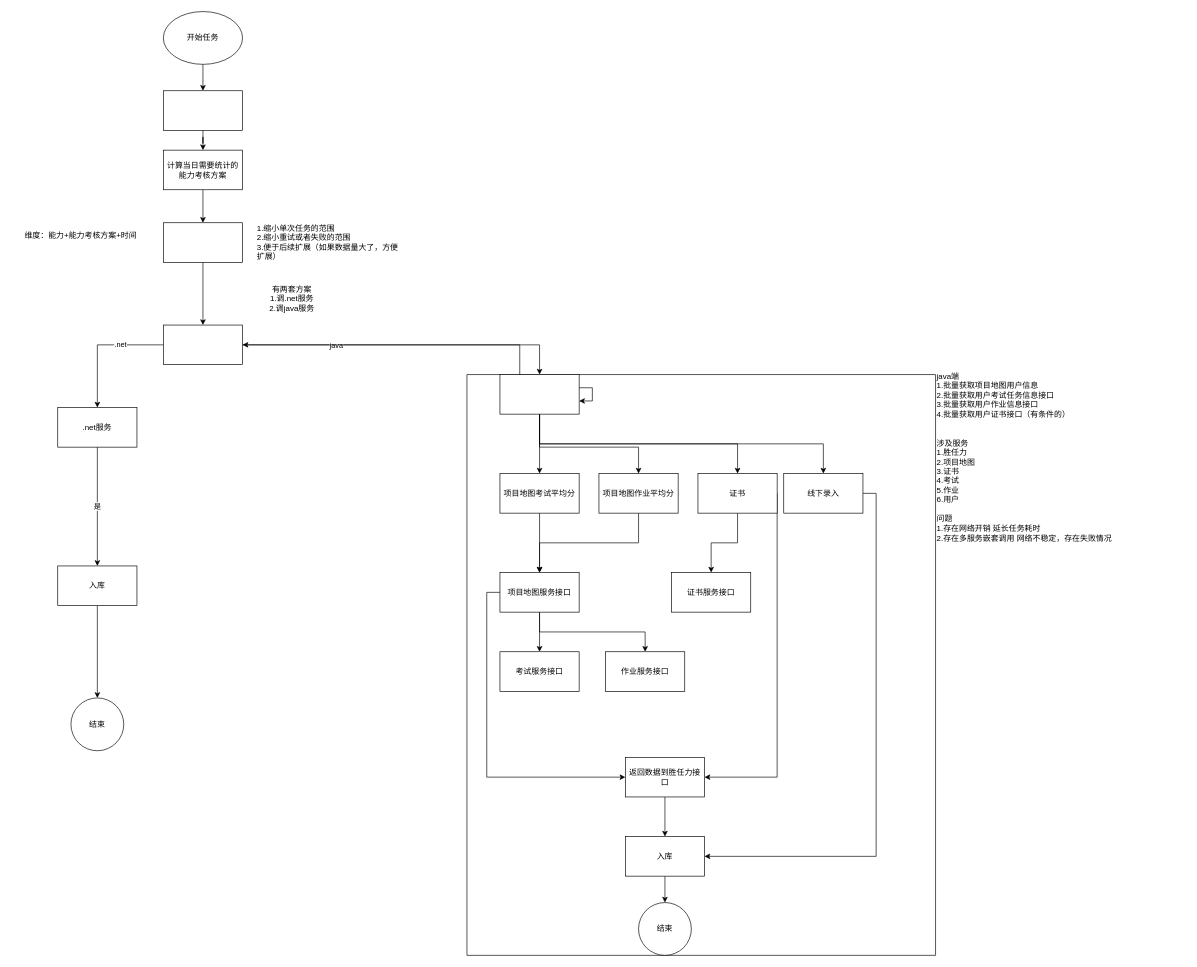
Some shapes in this 1197 by 967 pixel diagram are drawn without their labels. Each missing label, with the box of its shape:
入库 能力考核方案任务表: (163, 222, 243, 262)
获取能力考核方案: (163, 90, 243, 130)
调胜任力接口计算: (499, 374, 579, 414)
遍历任务表进行消费: (163, 324, 243, 365)
